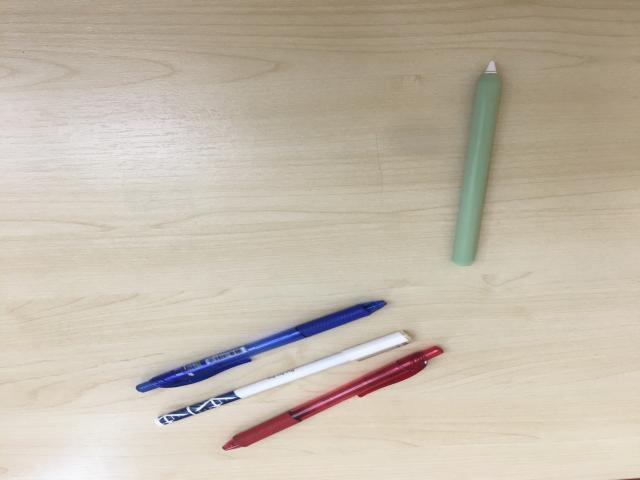Pen: (155, 331, 412, 426), (222, 347, 443, 450), (137, 301, 387, 392), (452, 61, 500, 265)
